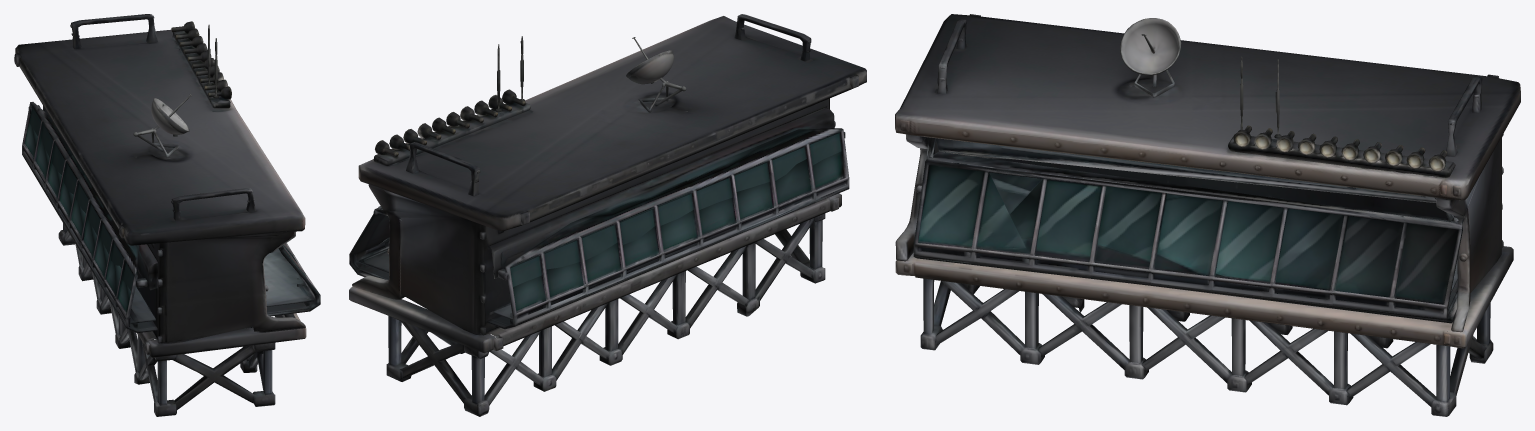
3 renders of one model, left to right at view 1: azimuth 30°, elevation 25°; view 2: azimuth 150°, elevation 25°; view 3: azimuth 270°, elevation 25°, orthographic. The views are drawn at different scales.
Visible parts, largest first — view 1: tripo_node_1441e501-1544-4bbe-b6e4-c57222ccfa81; view 2: tripo_node_1441e501-1544-4bbe-b6e4-c57222ccfa81; view 3: tripo_node_1441e501-1544-4bbe-b6e4-c57222ccfa81.
Boxes of the visible parts, <box> form: tripo_node_1441e501-1544-4bbe-b6e4-c57222ccfa81: <box>14,14,320,416</box>; tripo_node_1441e501-1544-4bbe-b6e4-c57222ccfa81: <box>349,14,866,416</box>; tripo_node_1441e501-1544-4bbe-b6e4-c57222ccfa81: <box>895,14,1520,416</box>.
Bounding box in the file's own units: 0.6587 × 0.6021 × 0.9995.
Materials: 1 (1 with a texture image).
